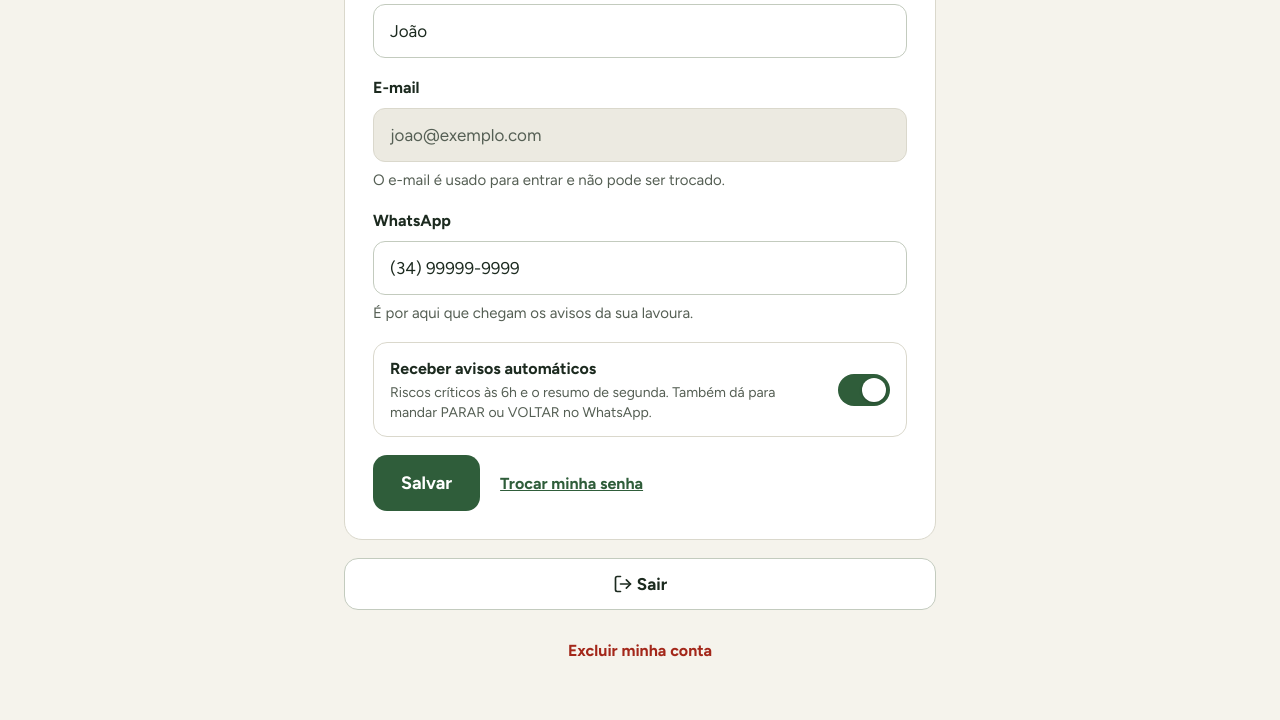
Scenario: Minha conta › excluir a conta pede a senha; a senha errada avisa sem deslogar
(page scrolled)
Check: the field labelled "Nome" is shown, box top-left (373, 4), bottom-right (907, 58)
Click the button "Excluir minha conta" at (640, 650), box top-left (344, 628), bottom-right (936, 672)
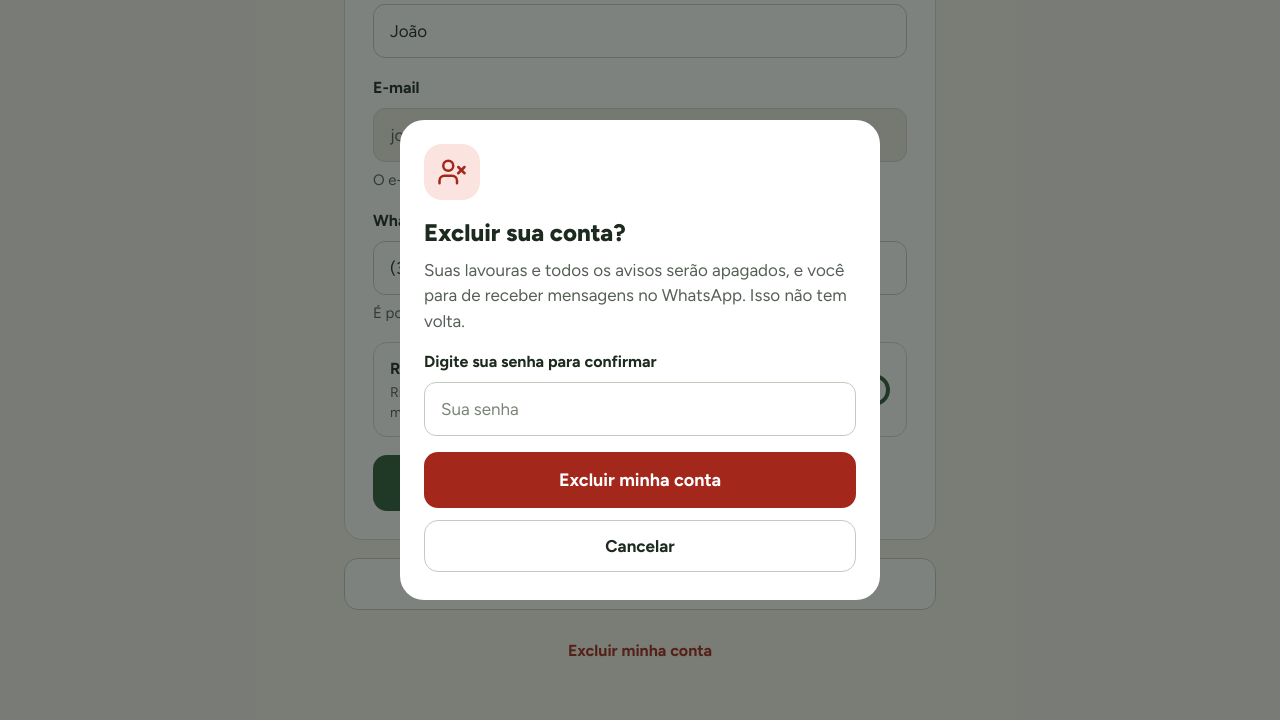
Click the button "Excluir minha conta" at (640, 480), box top-left (424, 452), bottom-right (856, 508)
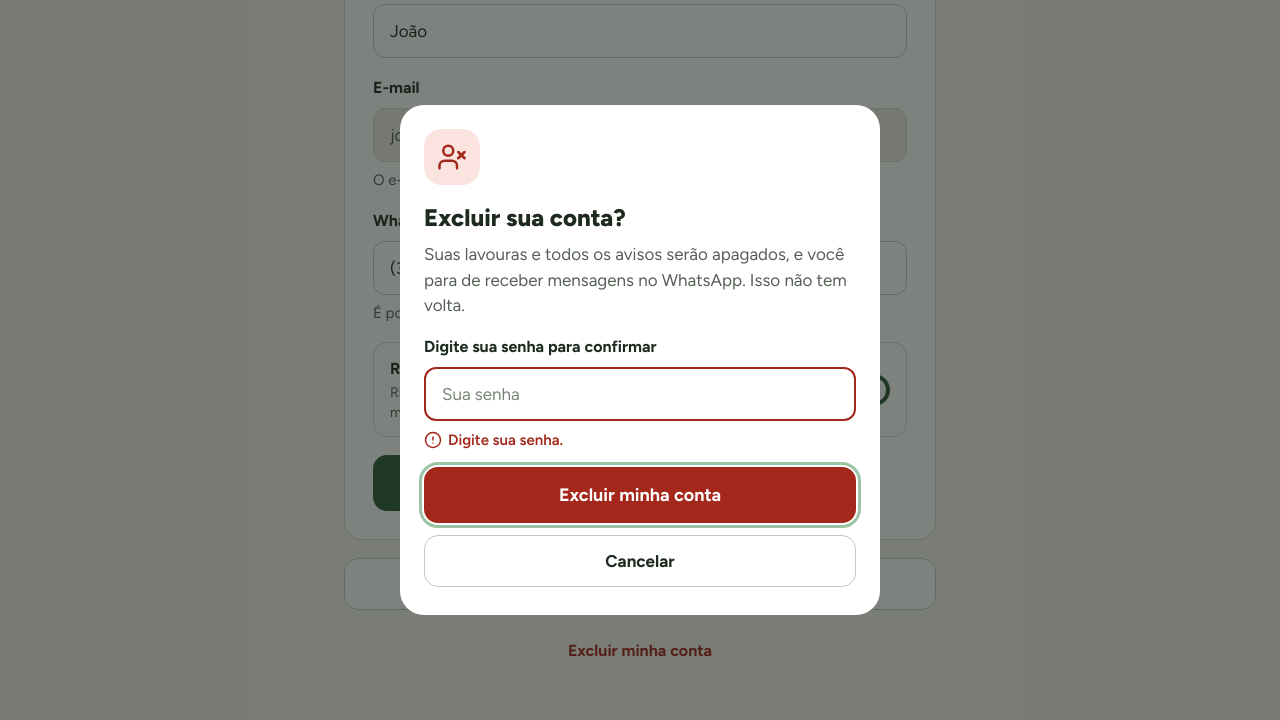
Type "errada" into the password field labelled "Digite sua senha para confirmar" at (640, 394), box top-left (424, 367), bottom-right (856, 421)
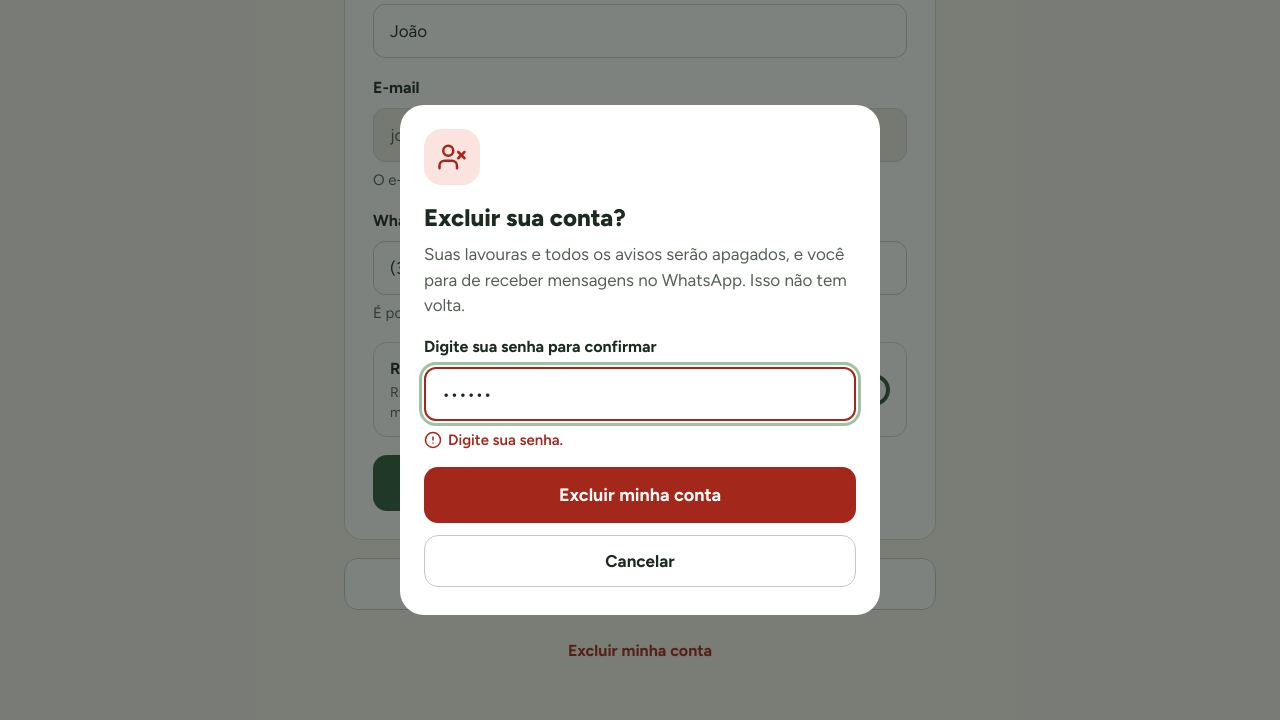
Click the button "Excluir minha conta" at (640, 495), box top-left (424, 467), bottom-right (856, 523)
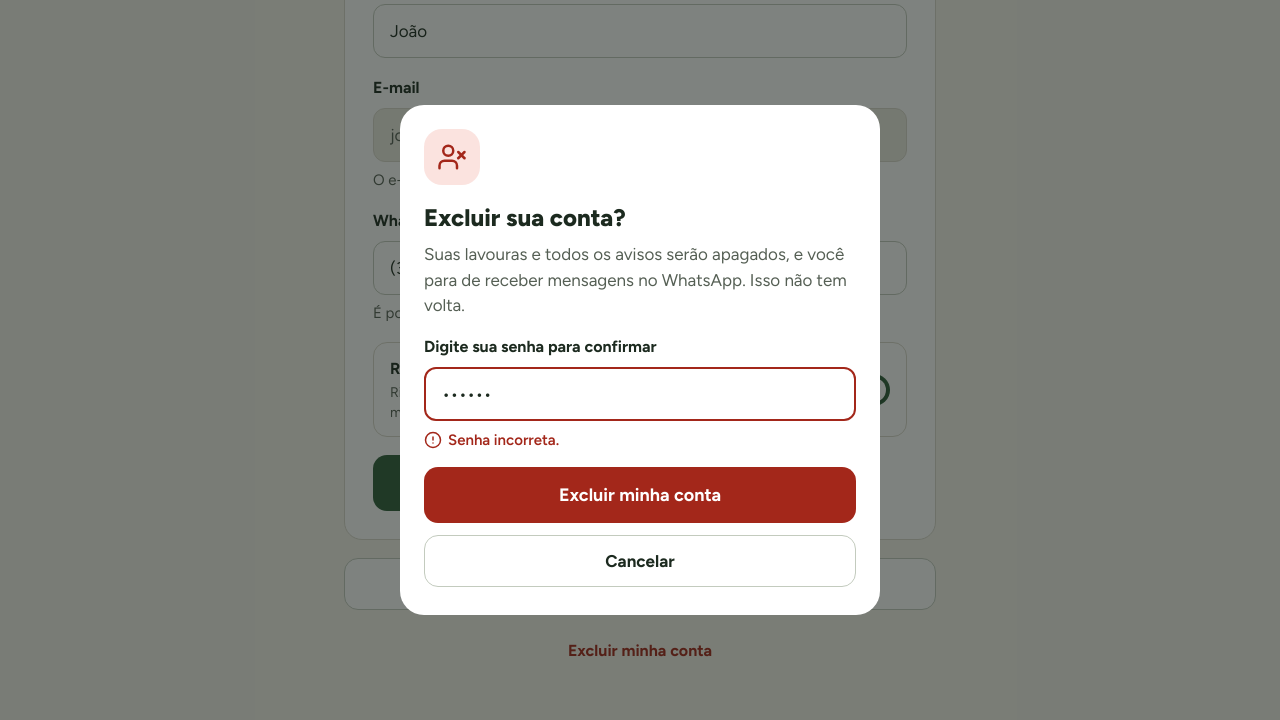
Check: the text "Senha incorreta." is shown, box top-left (424, 431), bottom-right (559, 449)
